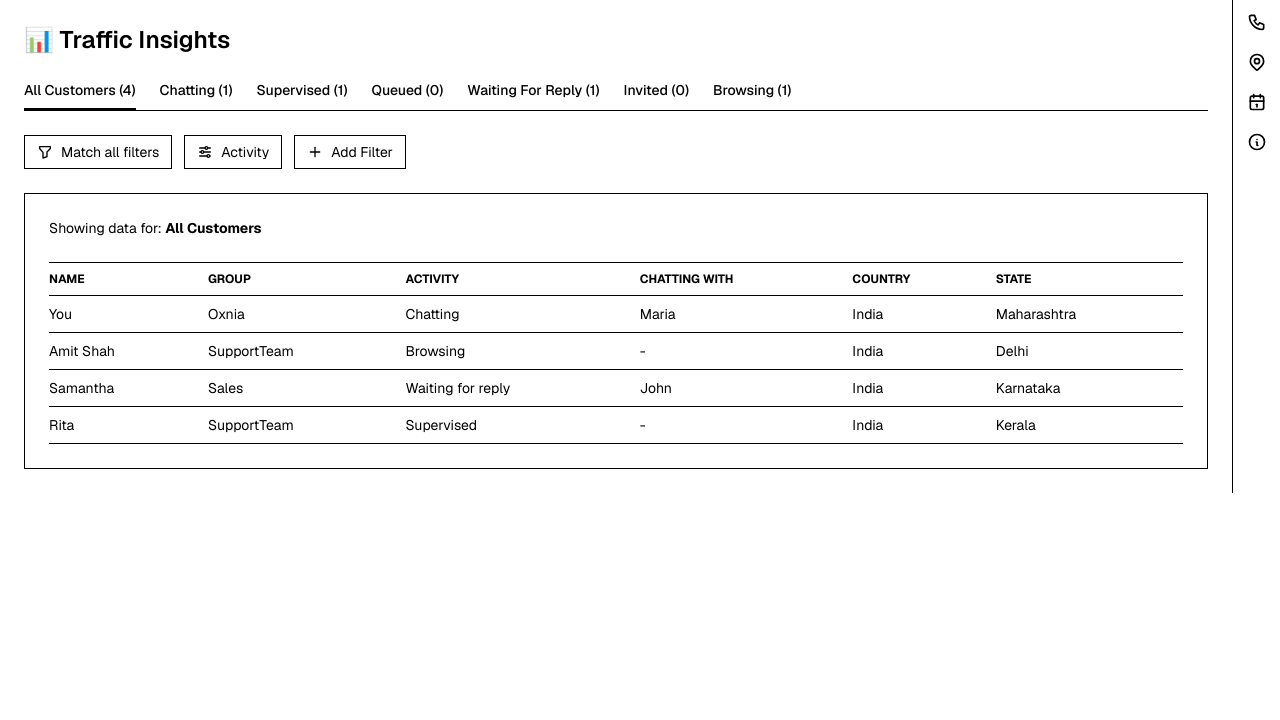
Test case: TrafficView › filters the table rows by the selected activity
Click the button "Chatting (1)". click: point(196, 95)
box: [160,80,232,110]
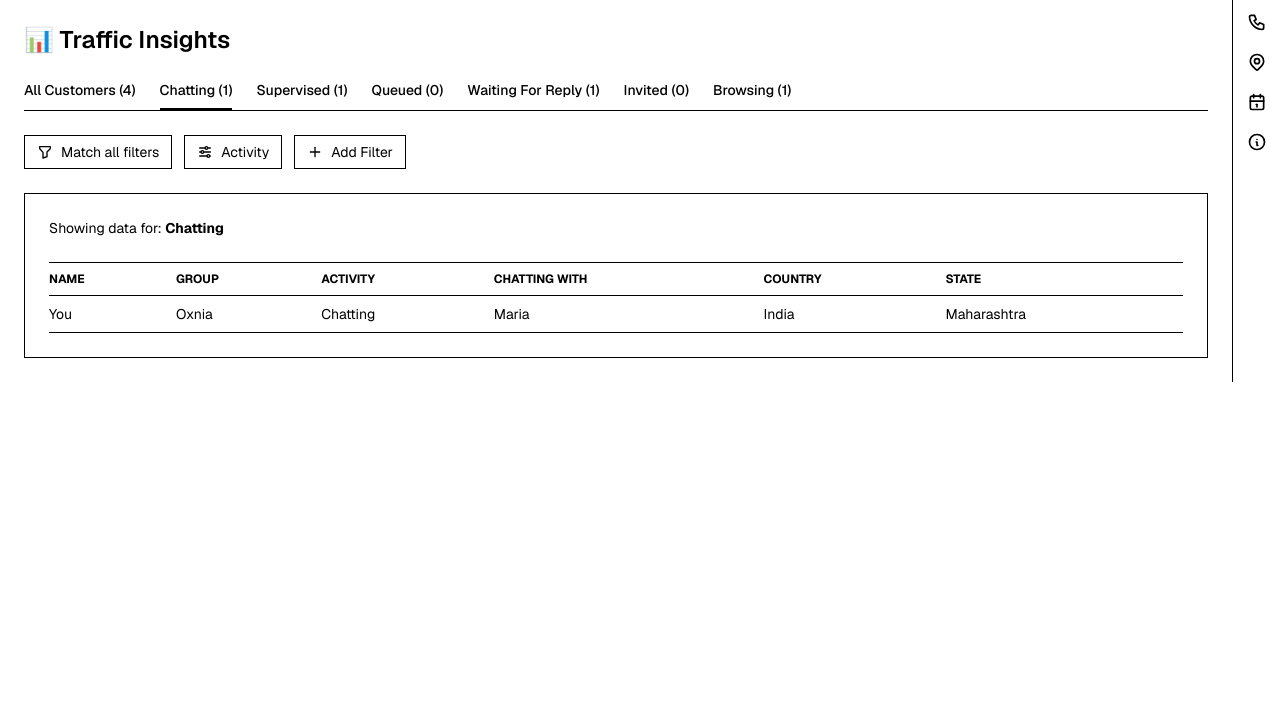
expect the text "Showing data for:" is shown: met, box [49,219,165,237]
expect the text "Amit Shah" is gone: met
expect the text "Samantha" is gone: met
